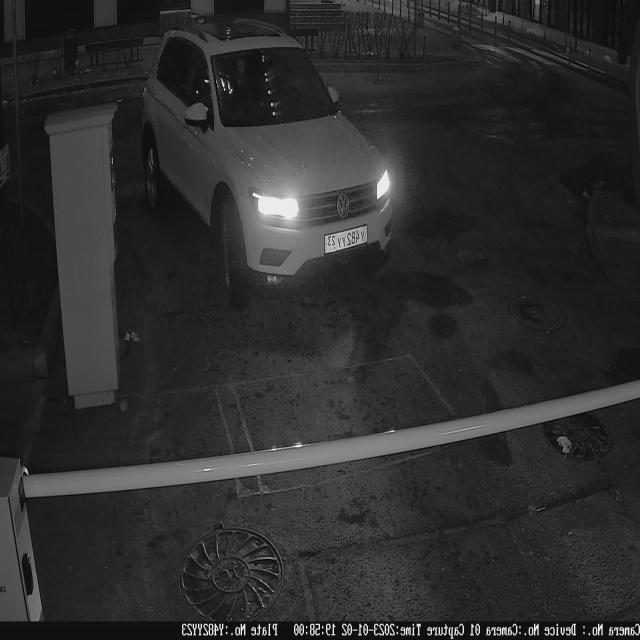car-plate-numbers: (323, 222, 371, 260)
